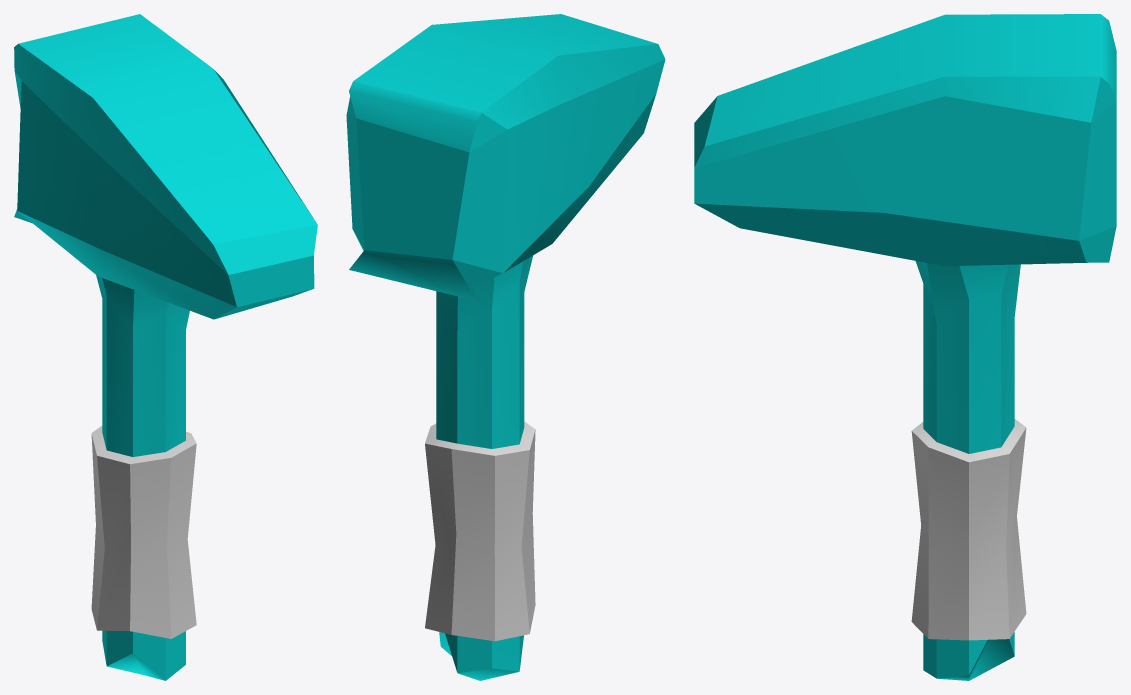
Rendered from Low_Env_Hammer.fbx.
3 renders of one model, left to right at view 1: azimuth 30°, elevation 25°; view 2: azimuth 150°, elevation 25°; view 3: azimuth 270°, elevation 25°, orthographic. The views are drawn at different scales.
Visible parts, largest first — view 1: Low_Env_Hammer; view 2: Low_Env_Hammer; view 3: Low_Env_Hammer.
Boxes of the visible parts, bbox=[...] form: Low_Env_Hammer: bbox=[14, 14, 317, 680]; Low_Env_Hammer: bbox=[346, 14, 665, 680]; Low_Env_Hammer: bbox=[694, 14, 1116, 680].
Size of the model in its own units: 0.1869 by 0.7483 by 0.4516.
